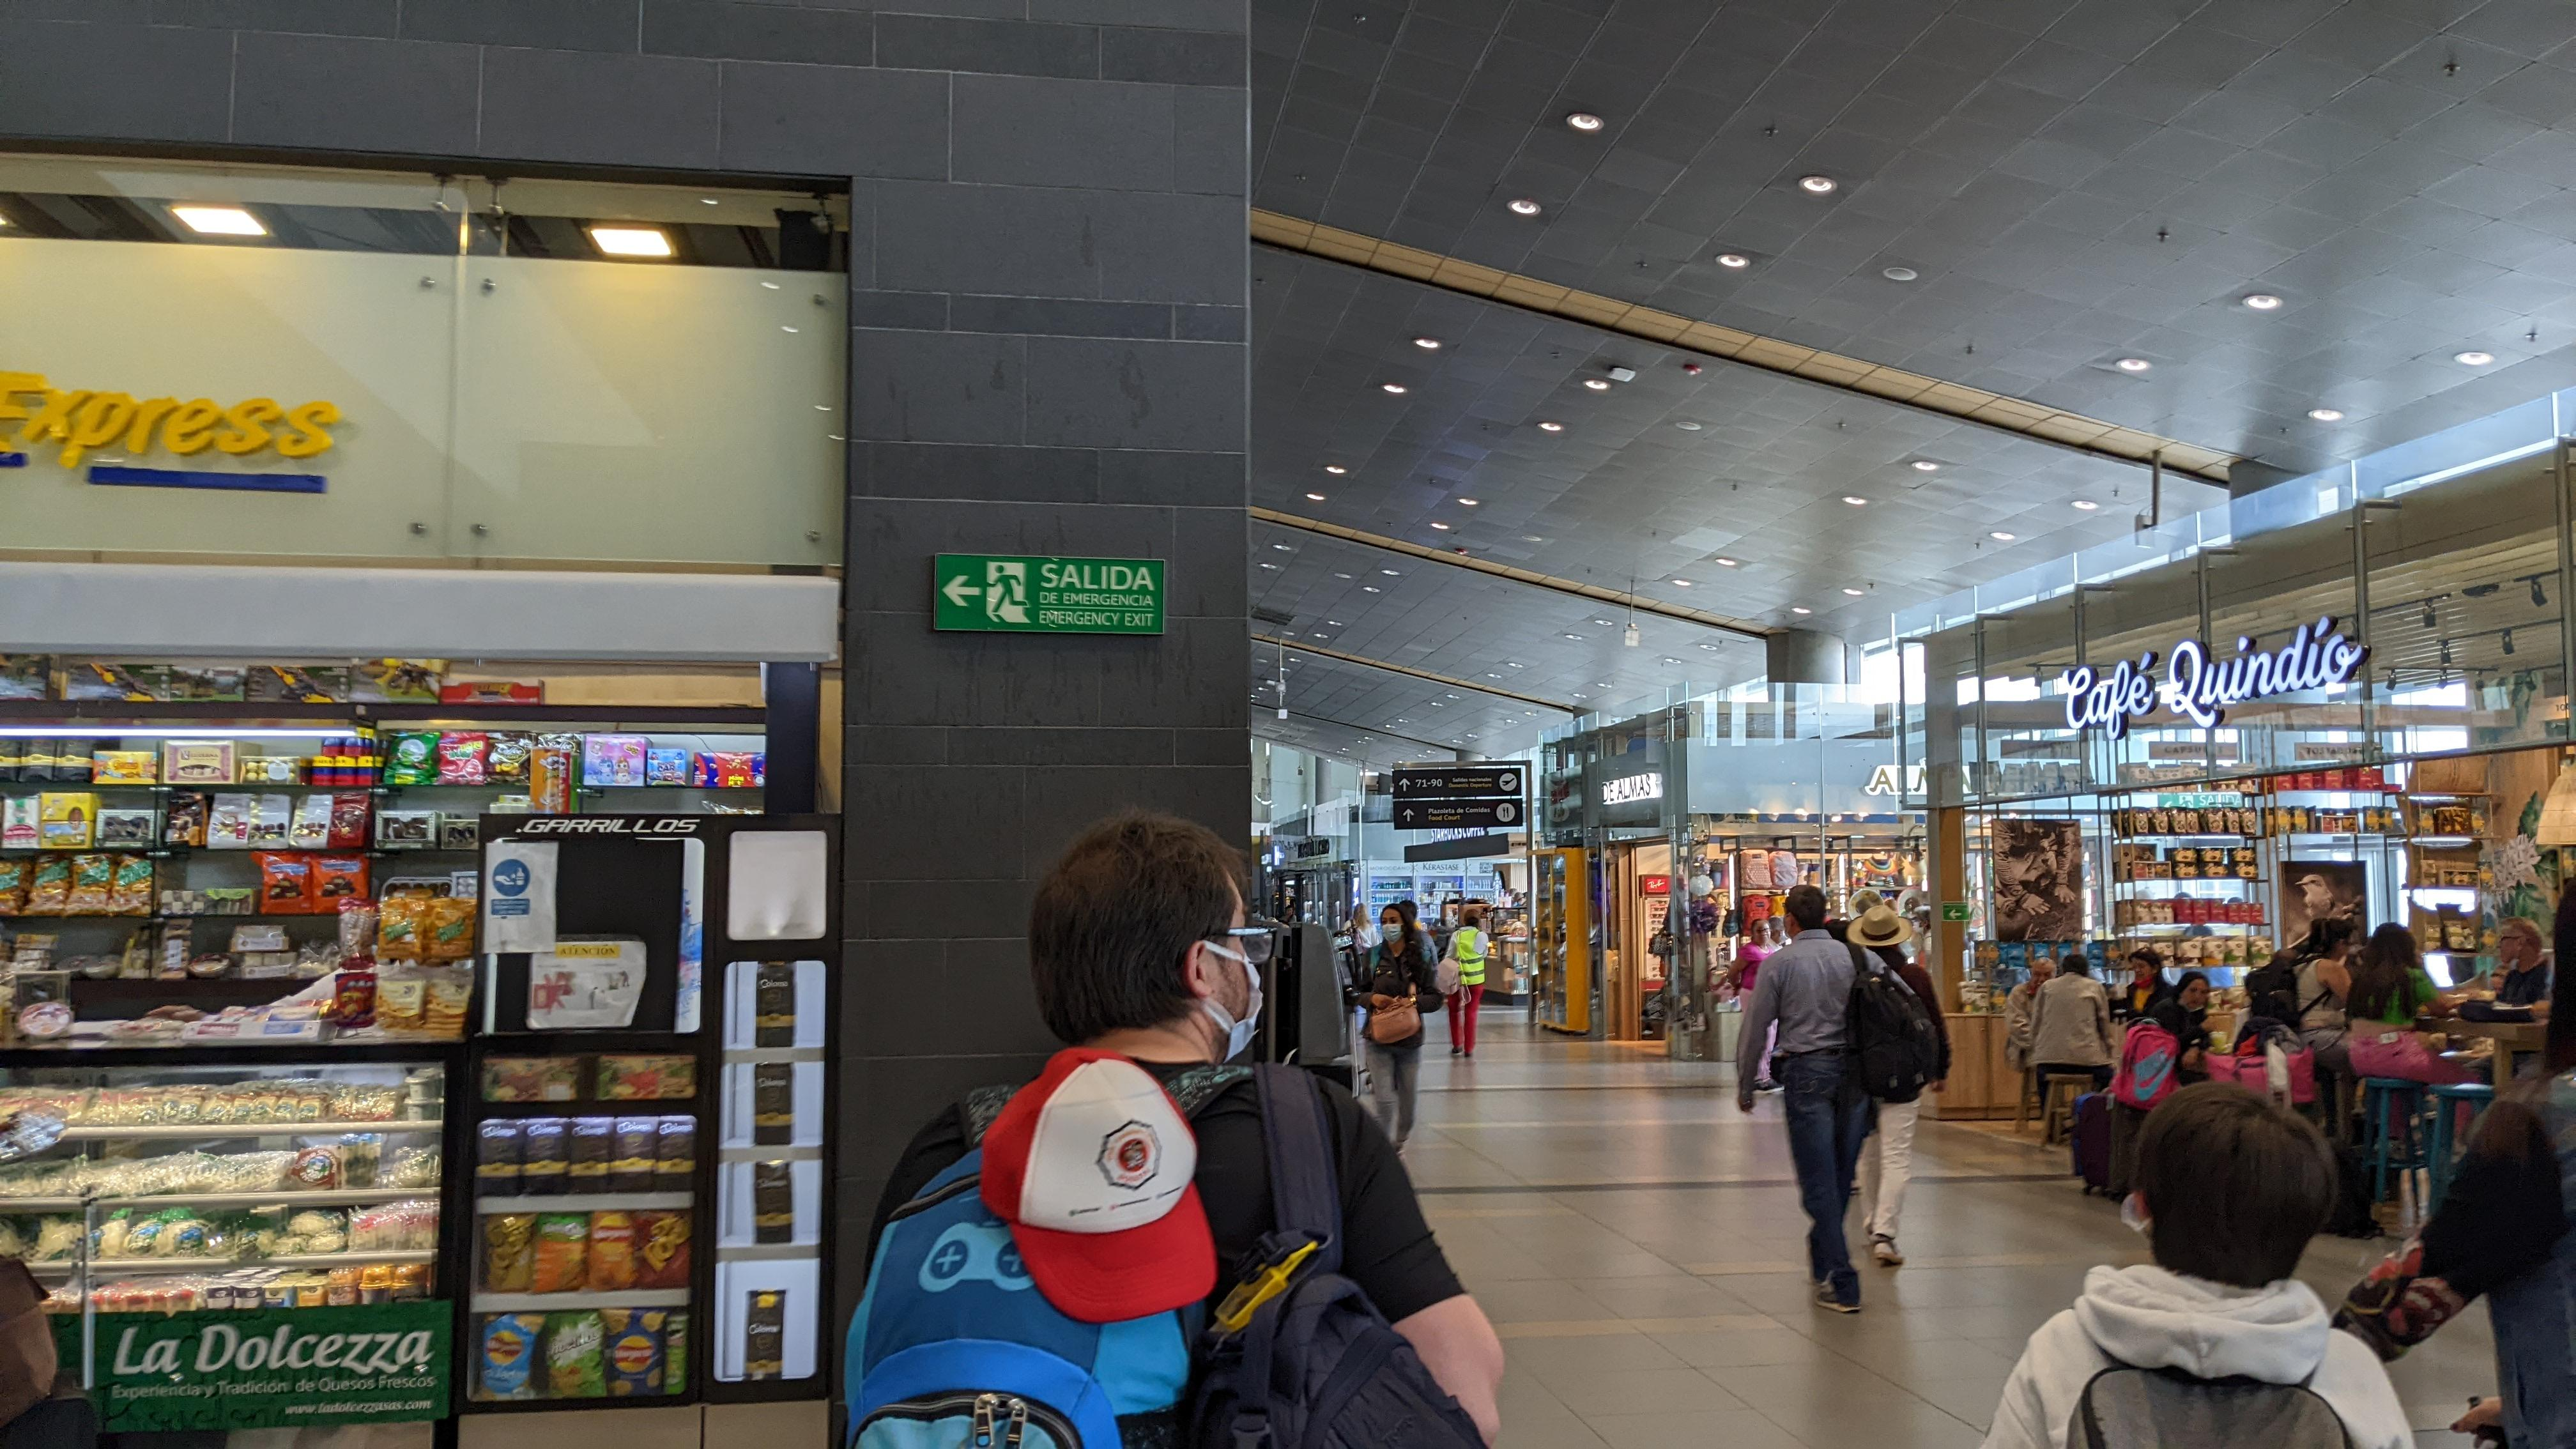emergency exit: (985, 559, 1033, 626)
emergency left arrow: (941, 571, 984, 609)
